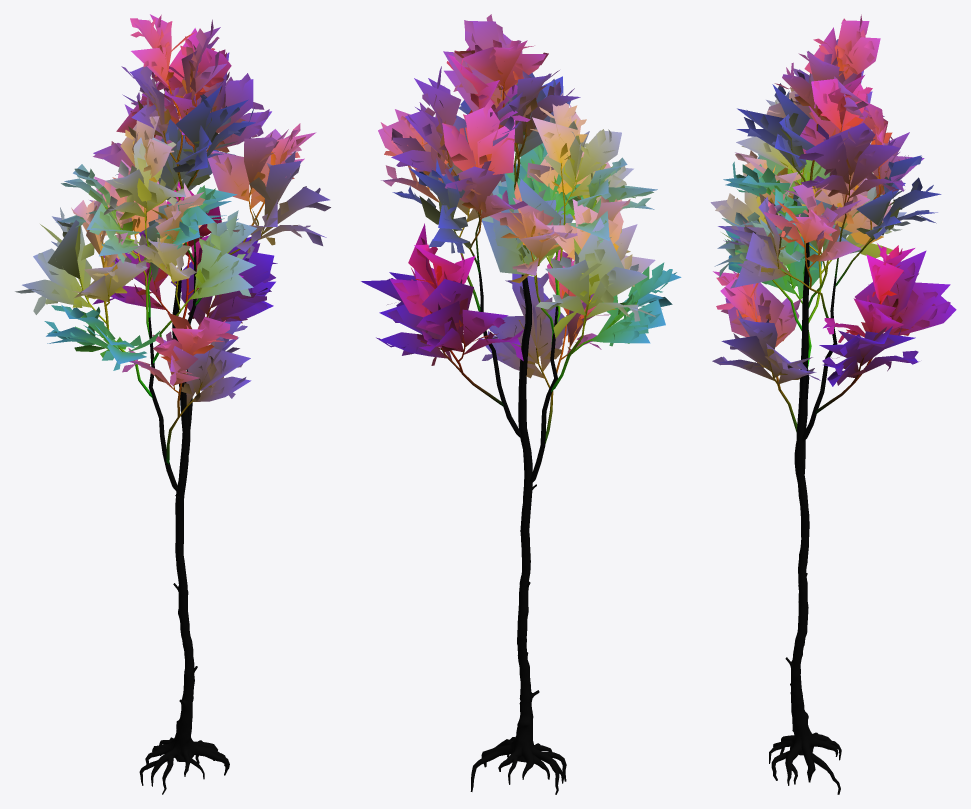
The model's file is SM_EuropeanBeech_L_03.fbx.
The picture shows the model from 3 angles, left to right: view 1: azimuth 30°, elevation 25°; view 2: azimuth 150°, elevation 25°; view 3: azimuth 270°, elevation 25°; orthographic projection. The views are drawn at different scales.
Visible parts, largest first — view 1: SM_EuropeanBeech_L_03_LOD0; view 2: SM_EuropeanBeech_L_03_LOD0; view 3: SM_EuropeanBeech_L_03_LOD0.
Part boxes in pixels (x1,y1,x2,y2): SM_EuropeanBeech_L_03_LOD0: (15,14,330,794); SM_EuropeanBeech_L_03_LOD0: (361,14,681,794); SM_EuropeanBeech_L_03_LOD0: (710,14,956,794).
Size of the model in its own units: 652 by 513 by 1730.
